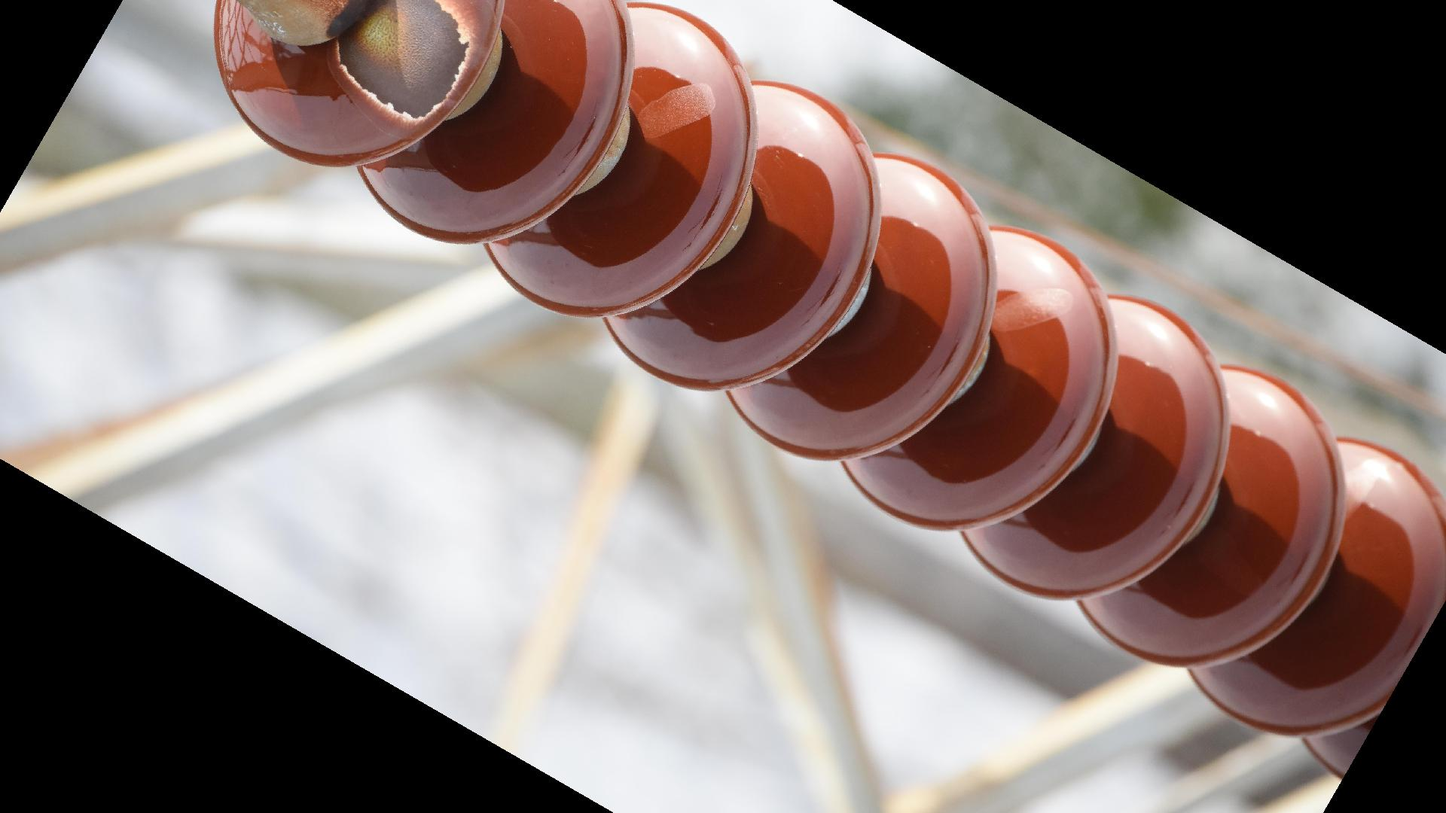insulator: (209, 1, 1446, 784)
insulator_flashover: (331, 1, 473, 128)
